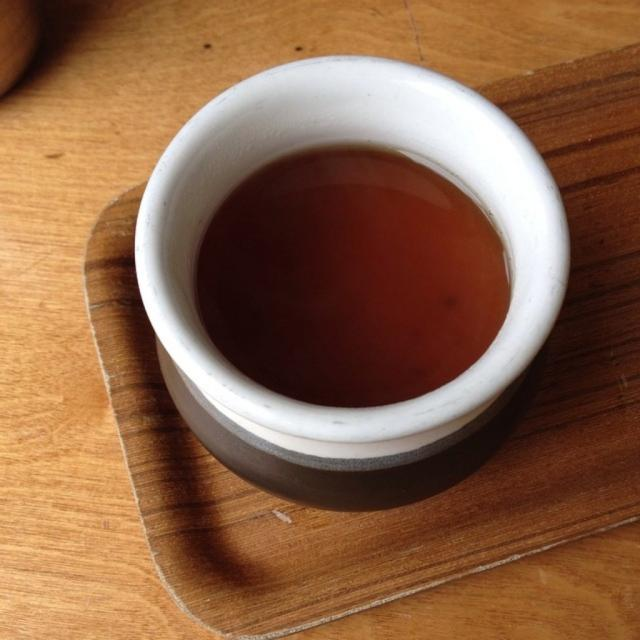Tea: (202, 135, 509, 407)
